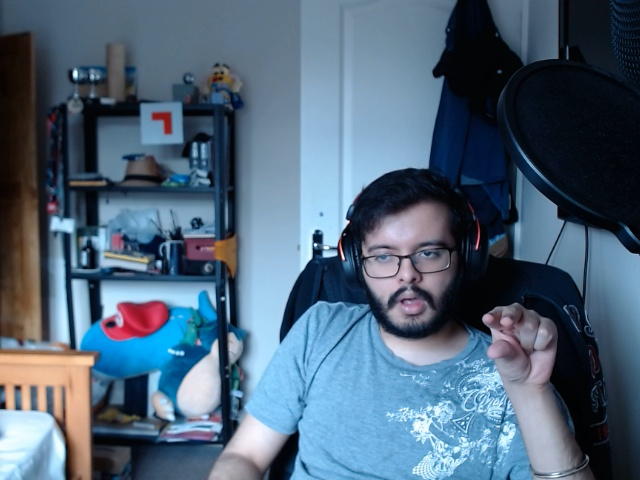No: (482, 295, 562, 391)
